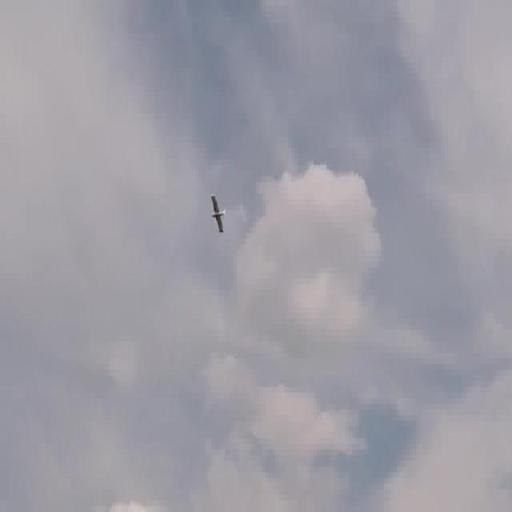uav: (206, 188, 228, 242)
